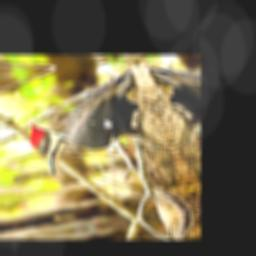Woodpecker: (9, 70, 169, 178)
